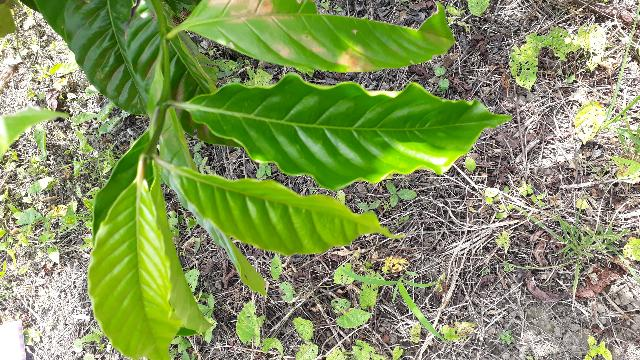healthy: (180, 70, 519, 191)
